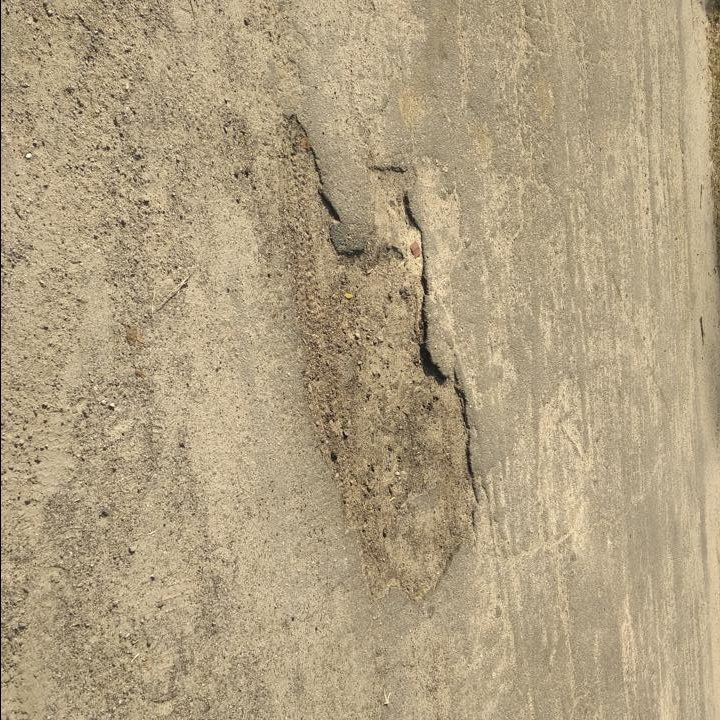pothole: (272, 105, 486, 609)
